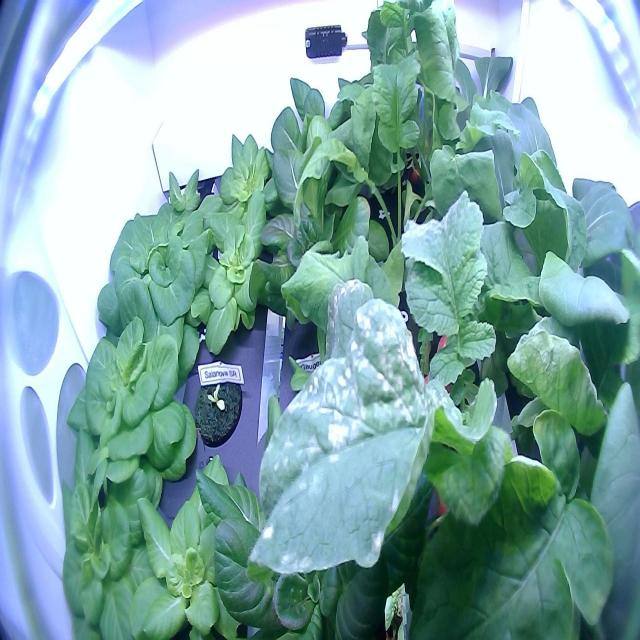germination: (190, 356, 247, 458)
young: (194, 390, 429, 640), (59, 275, 205, 526), (51, 422, 192, 637), (124, 443, 273, 639), (244, 146, 399, 333), (78, 192, 222, 384), (177, 183, 296, 359), (248, 69, 382, 217), (210, 125, 292, 228), (159, 156, 208, 228)
